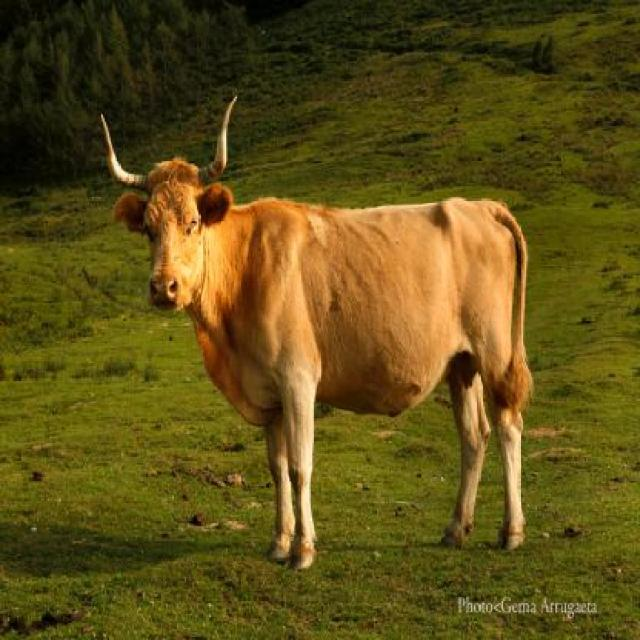Cow: (96, 106, 542, 572)
